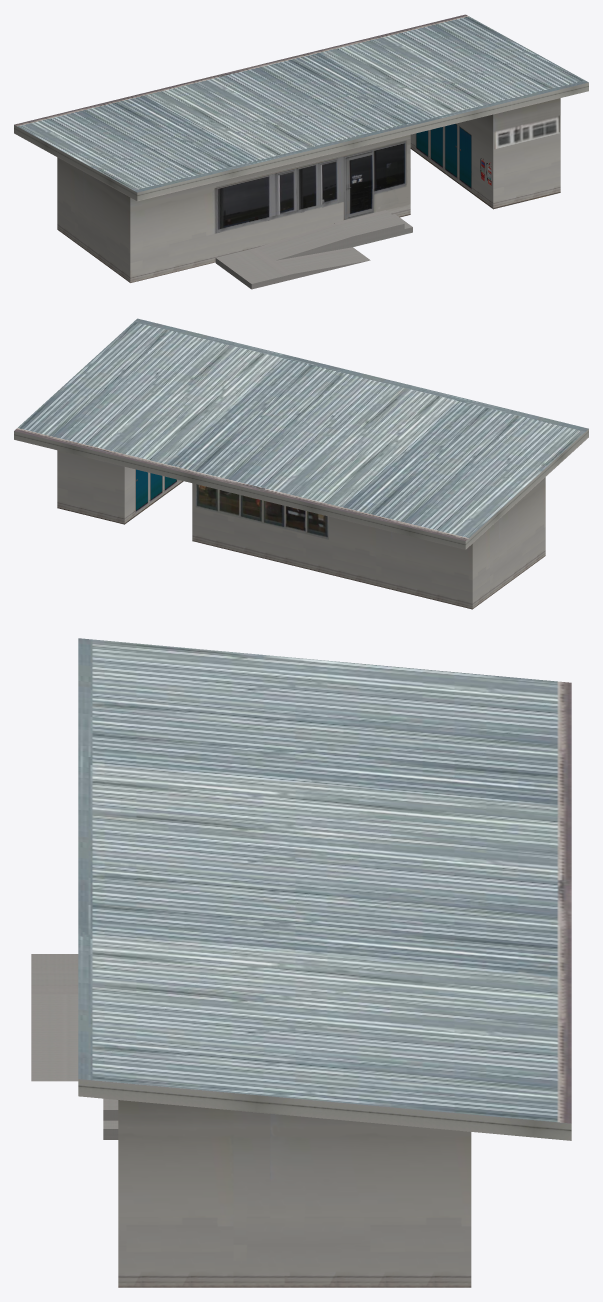
Rendered from terminal-small-01-17x7-cbj_LOD01.gltf.
3 renders of one model, top to bottom at view 1: azimuth 30°, elevation 25°; view 2: azimuth 150°, elevation 25°; view 3: azimuth 270°, elevation 25°, orthographic. The views are drawn at different scales.
Parts seen in each view (by area): view 1: roof01, building01, ramp01; view 2: roof01, building01; view 3: roof01, building01, ramp01.
Part boxes in pixels (x1,y1,x2,y2): roof01: (14,14,588,192); building01: (14,82,588,282); ramp01: (215,210,412,289); roof01: (14,318,588,540); building01: (14,429,588,609); roof01: (78,638,571,1123); building01: (78,1079,571,1287); ramp01: (31,954,118,1139).
Size of the model in its own units: 17.4 by 4.17 by 9.01.
